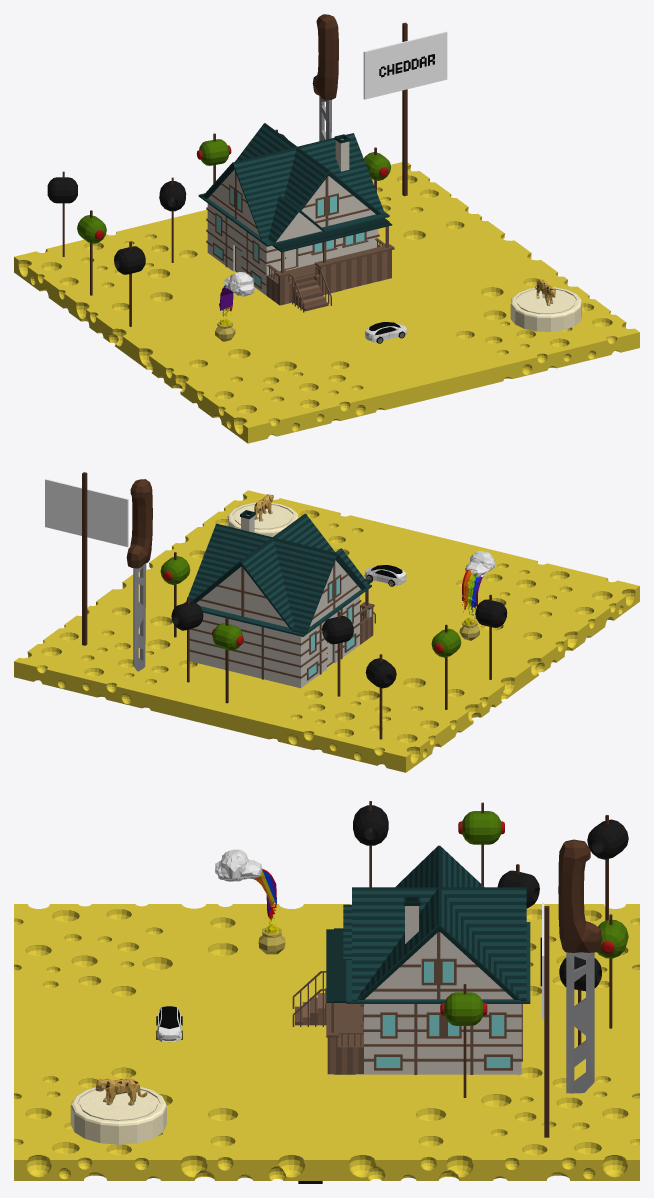
3 renders of one model, top to bottom at view 1: azimuth 30°, elevation 25°; view 2: azimuth 150°, elevation 25°; view 3: azimuth 270°, elevation 25°, orthographic. The views are drawn at different scales.
Visible parts, largest first — view 1: Cube.022, Cube.793, Cube.023, Cylinder.016, Cube.024, OBJRANDOM_RAINBOW, Sphere.017, Sphere.016, Sphere.020, Sphere.018, Sphere.022, VEHICLES_TESLA (+1 smaller); view 2: Cube.022, Cube.793, Cube.023, Cube.024, OBJRANDOM_RAINBOW, Cylinder.016, Sphere.020, Sphere.016, Sphere.022, Sphere.017, Sphere.021, Sphere.018 (+2 smaller); view 3: Cube.022, Cube.793, Cube.024, Cylinder.016, OBJRANDOM_RAINBOW, Cube.023, Sphere.019, Sphere.016, Sphere.018, Sphere.017, Sphere.022, VEHICLES_TESLA (+3 smaller).
Part boxes in pixels (bbox=[...]): Cube.022: bbox=[14, 162, 639, 443]; Cube.793: bbox=[198, 123, 394, 312]; Cube.023: bbox=[363, 22, 447, 196]; Cylinder.016: bbox=[510, 287, 581, 331]; Cube.024: bbox=[312, 14, 338, 141]; OBJRANDOM_RAINBOW: bbox=[215, 272, 254, 341]; Sphere.017: bbox=[114, 241, 145, 326]; Sphere.016: bbox=[47, 171, 77, 256]; Sphere.020: bbox=[159, 177, 186, 262]; Sphere.018: bbox=[77, 210, 106, 295]; Sphere.022: bbox=[196, 133, 231, 183]; VEHICLES_TESLA: bbox=[365, 322, 407, 343]; Cube.022: bbox=[14, 490, 639, 772]; Cube.793: bbox=[184, 510, 375, 688]; Cube.023: bbox=[45, 472, 128, 645]; Cube.024: bbox=[126, 479, 152, 671]; OBJRANDOM_RAINBOW: bbox=[459, 551, 495, 640]; Cylinder.016: bbox=[227, 502, 298, 536]; Sphere.020: bbox=[322, 611, 353, 696]; Sphere.016: bbox=[365, 654, 396, 739]; Sphere.022: bbox=[212, 618, 243, 703]; Sphere.017: bbox=[475, 594, 507, 679]; Sphere.021: bbox=[171, 597, 203, 682]; Sphere.018: bbox=[431, 624, 461, 709]; Cube.022: bbox=[14, 904, 639, 1180]; Cube.793: bbox=[292, 845, 530, 1074]; Cube.024: bbox=[558, 839, 601, 1093]; Cylinder.016: bbox=[70, 1086, 166, 1144]; OBJRANDOM_RAINBOW: bbox=[215, 849, 285, 954]; Cube.023: bbox=[540, 902, 549, 1137]; Sphere.019: bbox=[440, 984, 487, 1097]; Sphere.016: bbox=[587, 815, 628, 920]; Sphere.018: bbox=[458, 802, 504, 885]; Sphere.017: bbox=[353, 801, 388, 887]; Sphere.022: bbox=[597, 914, 628, 1028]; VEHICLES_TESLA: bbox=[156, 1006, 182, 1042].
Bounding box in the file's own units: 3917 × 2015 × 4000.
Materials: 35 (4 with a texture image).
